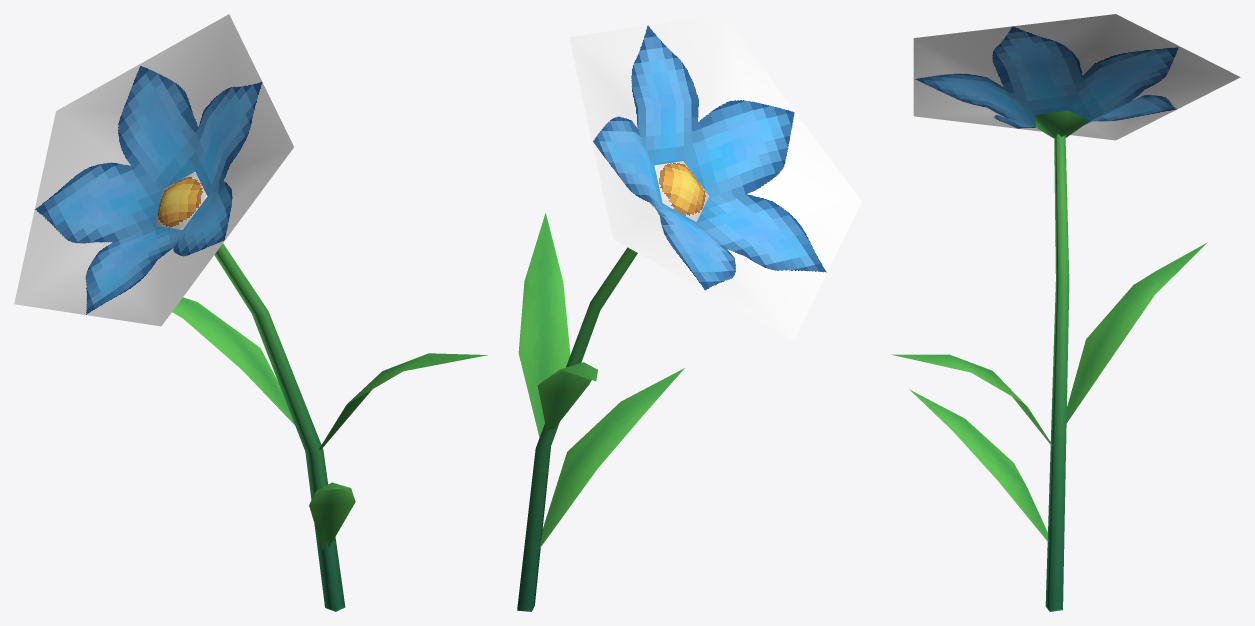
The model's file is Flower_Balloon_3.glb.
3 views of the same model, side by side, from view 1: azimuth 30°, elevation 25°; view 2: azimuth 150°, elevation 25°; view 3: azimuth 270°, elevation 25° (orthographic). The views are drawn at different scales.
Parts seen in each view (by area): view 1: Cone.110_Cone.134, Cube.088_Cube.254, object6.085_object6.029, Cone.109_Cone.133, object6.082_object6.024, object6.081_object6.023; view 2: Cone.110_Cone.134, object6.081_object6.023, object6.082_object6.024, Cube.088_Cube.254, object6.085_object6.029, Cone.109_Cone.133; view 3: Cone.110_Cone.134, Cube.088_Cube.254, object6.085_object6.029, object6.082_object6.024, object6.081_object6.023, Cone.111_Cone.135.
Boxes of the visible parts, left/top/right/bottom form: Cone.110_Cone.134: left=14, top=14, right=293, bottom=326; Cube.088_Cube.254: left=214, top=243, right=345, bottom=611; object6.085_object6.029: left=172, top=297, right=294, bottom=424; Cone.109_Cone.133: left=155, top=171, right=207, bottom=229; object6.082_object6.024: left=309, top=482, right=355, bottom=550; object6.081_object6.023: left=317, top=353, right=487, bottom=451; Cone.110_Cone.134: left=569, top=14, right=861, bottom=340; object6.081_object6.023: left=518, top=213, right=570, bottom=437; object6.082_object6.024: left=539, top=368, right=684, bottom=548; Cube.088_Cube.254: left=517, top=247, right=637, bottom=611; object6.085_object6.029: left=537, top=362, right=597, bottom=431; Cone.109_Cone.133: left=654, top=161, right=708, bottom=221; Cone.110_Cone.134: left=913, top=14, right=1240, bottom=140; Cube.088_Cube.254: left=1045, top=134, right=1069, bottom=611; object6.085_object6.029: left=1066, top=242, right=1207, bottom=422; object6.082_object6.024: left=909, top=389, right=1048, bottom=541; object6.081_object6.023: left=891, top=354, right=1053, bottom=446; Cone.111_Cone.135: left=1035, top=110, right=1089, bottom=138.
Bounding box in the file's own units: 0.4665 × 0.7361 × 0.4179.
Materials: 4 (4 with a texture image).
